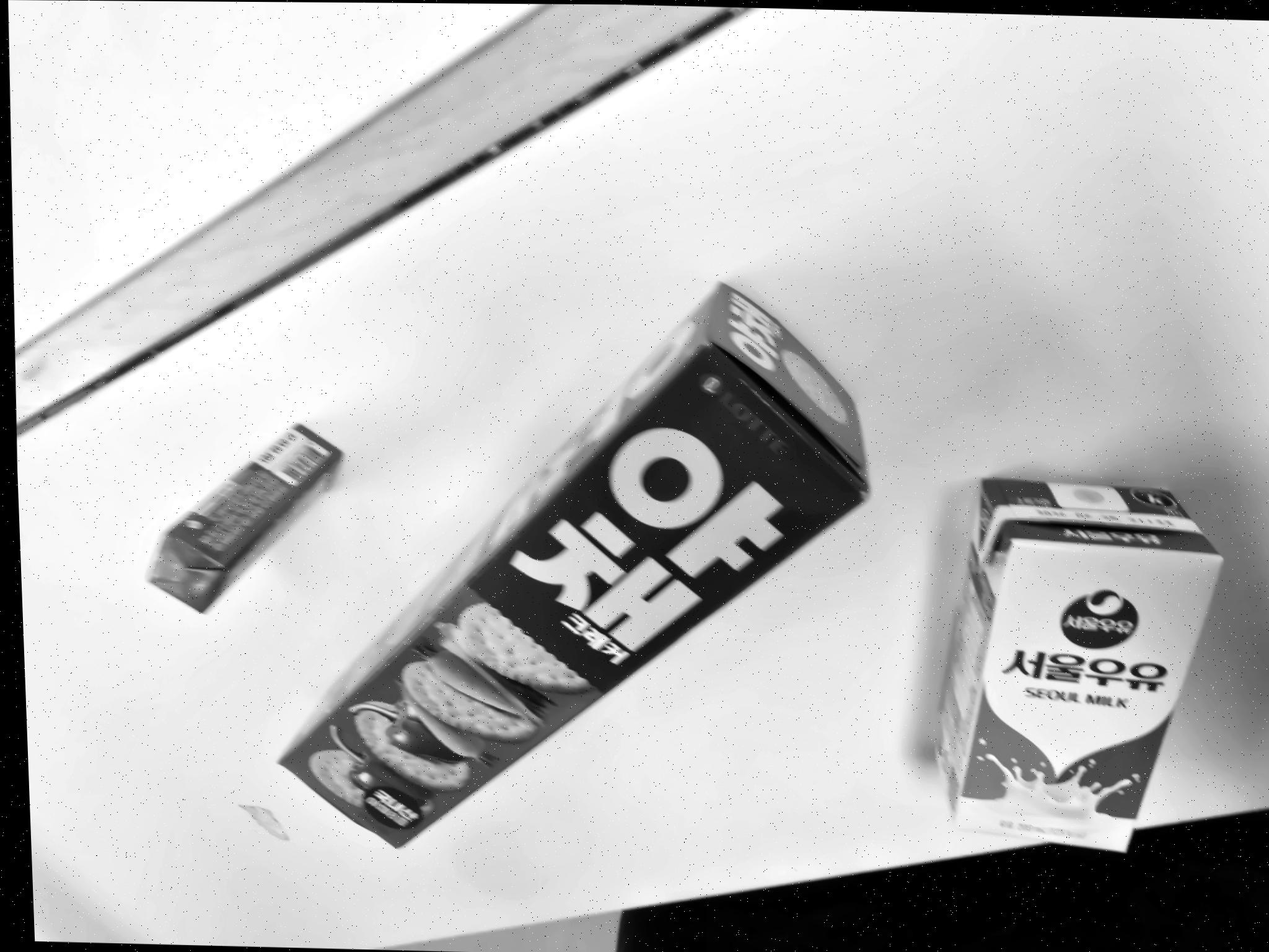cracker_vege: (277, 283, 869, 855)
gum_green: (142, 419, 344, 613)
milk_green: (931, 478, 1224, 853)
